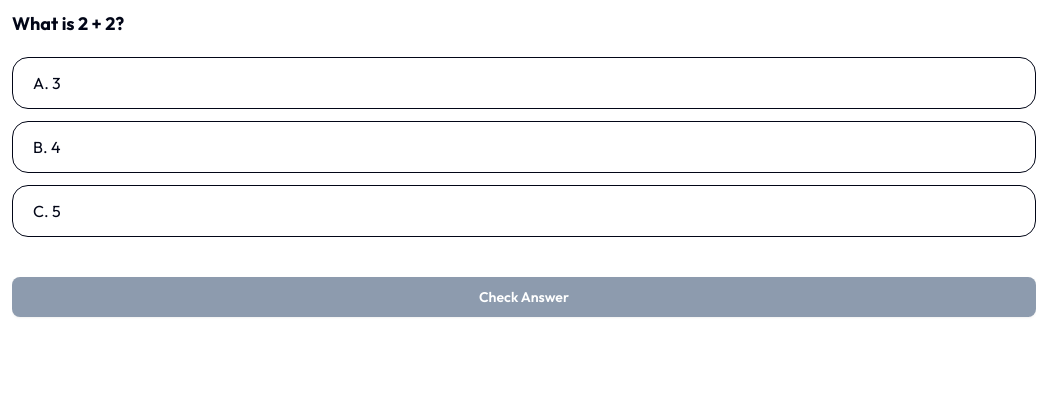
Test: QuizInlineViewer › shows Incorrect feedback without revealing the correct answer
Click the button "C. 5" at (39, 211), box [12, 185, 1036, 237]
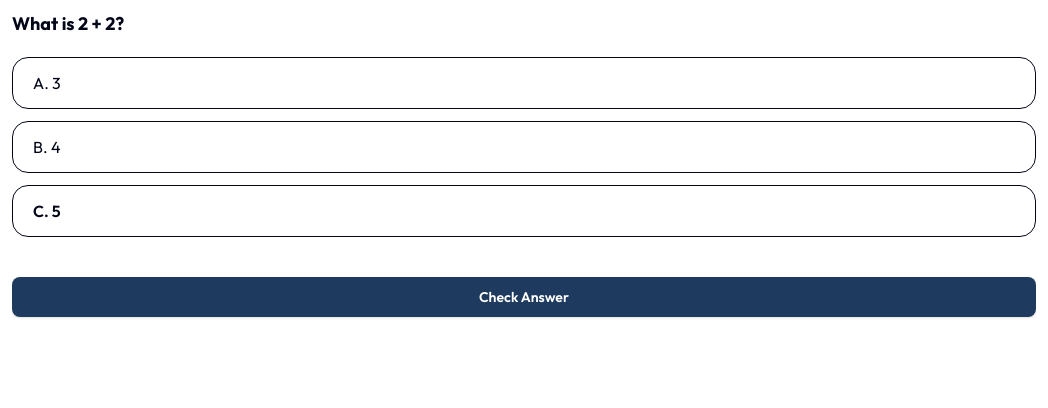
Click the button "Check Answer" at (524, 297), box [12, 277, 1036, 317]
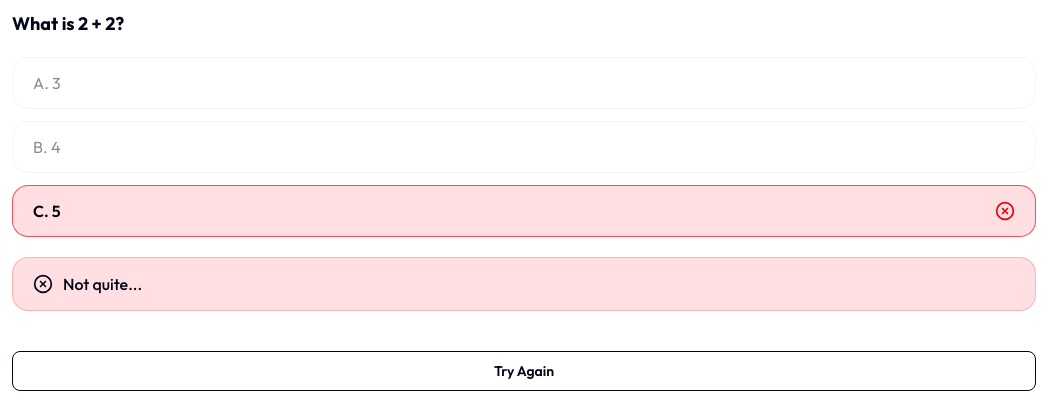
Expected: the text "Not quite..." is shown, [63, 272, 142, 296]
